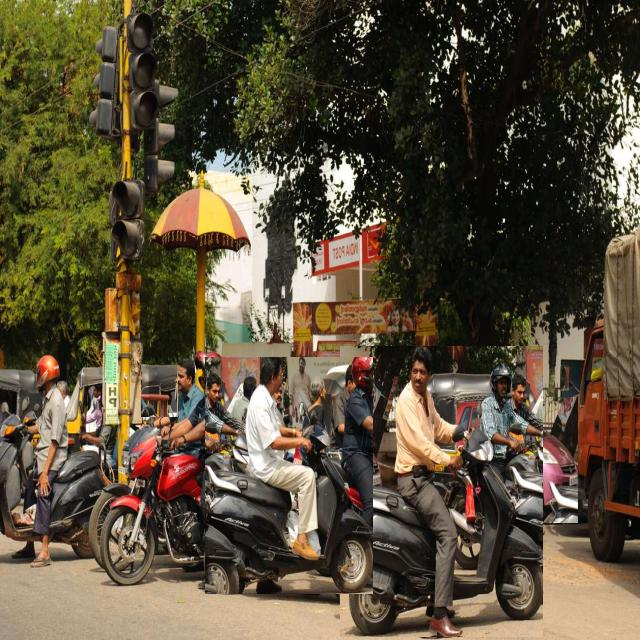autorickshaw: (66, 367, 102, 449), (141, 365, 178, 417)
car: (502, 397, 577, 523)
motorcycle: (340, 346, 542, 637), (205, 357, 372, 594), (101, 352, 235, 583), (0, 356, 105, 567)
truck: (558, 228, 640, 561)
